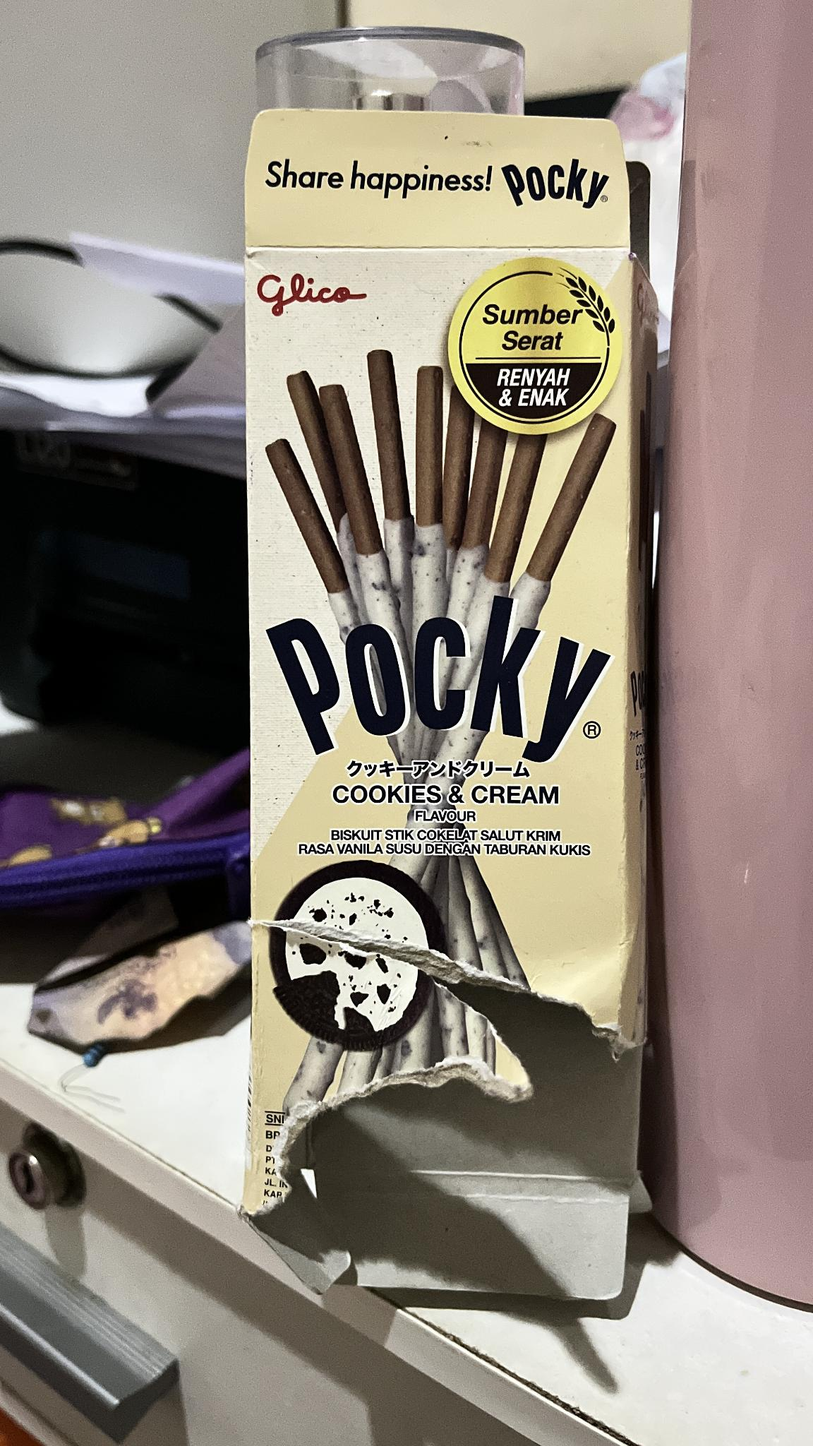Kertas: (244, 251, 652, 1212)
